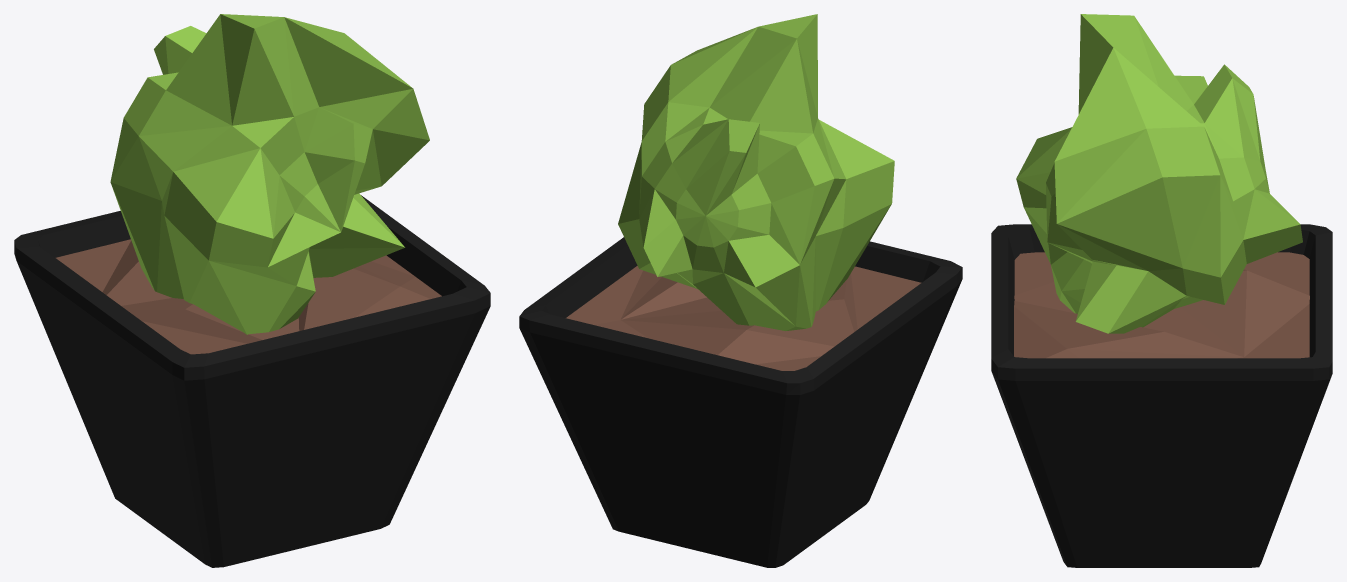
File: small-indoor-plant.glb
The picture shows the model from 3 angles, left to right: view 1: azimuth 30°, elevation 25°; view 2: azimuth 150°, elevation 25°; view 3: azimuth 270°, elevation 25°; orthographic projection. The views are drawn at different scales.
Visible parts, largest first — view 1: Node; view 2: Node; view 3: Node.
Boxes of the visible parts, x1=… form: Node: x1=14, y1=14, x2=490, y2=567; Node: x1=519, y1=14, x2=962, y2=567; Node: x1=991, y1=14, x2=1332, y2=567.
Size of the model in its own units: 0.3511 by 0.5604 by 0.3511.
